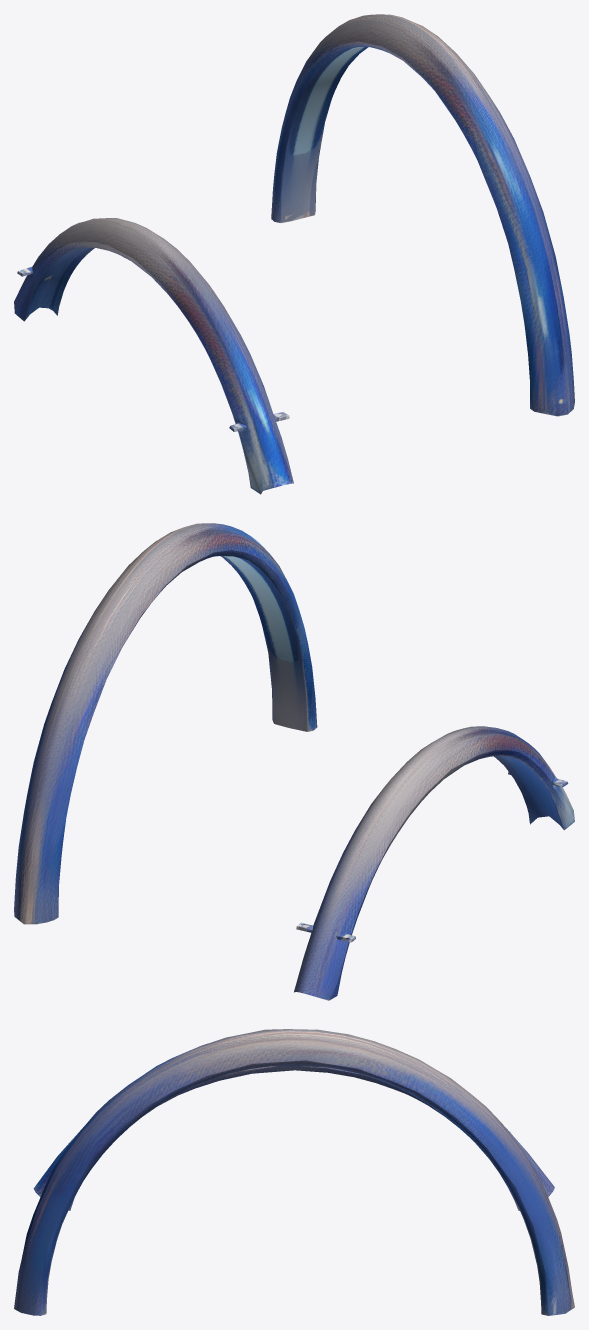
Rendered from Accesorio3.glb.
The picture shows the model from 3 angles, top to bottom: view 1: azimuth 30°, elevation 25°; view 2: azimuth 150°, elevation 25°; view 3: azimuth 270°, elevation 25°; orthographic projection.
Parts seen in each view (by area): view 1: model; view 2: model; view 3: model.
Boxes of the visible parts, x1=… form: model: x1=14, y1=14, x2=574, y2=494; model: x1=14, y1=523, x2=574, y2=1000; model: x1=14, y1=1029, x2=574, y2=1315.
Bounding box in the file's own units: 1.23 × 1.14 × 1.9.
Materials: 1 (1 with a texture image).
